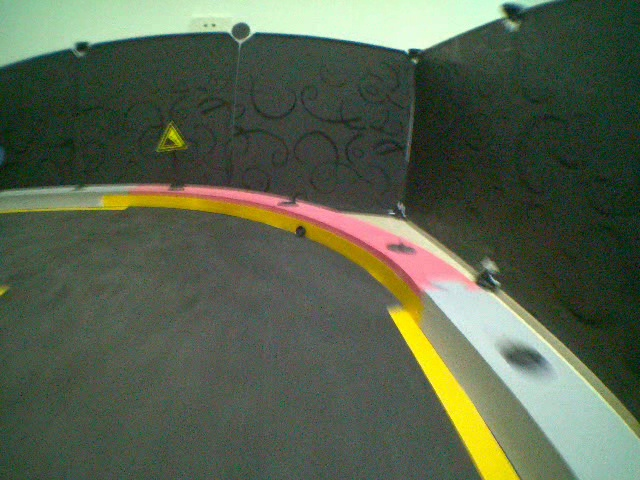fast: (152, 121, 189, 154)
